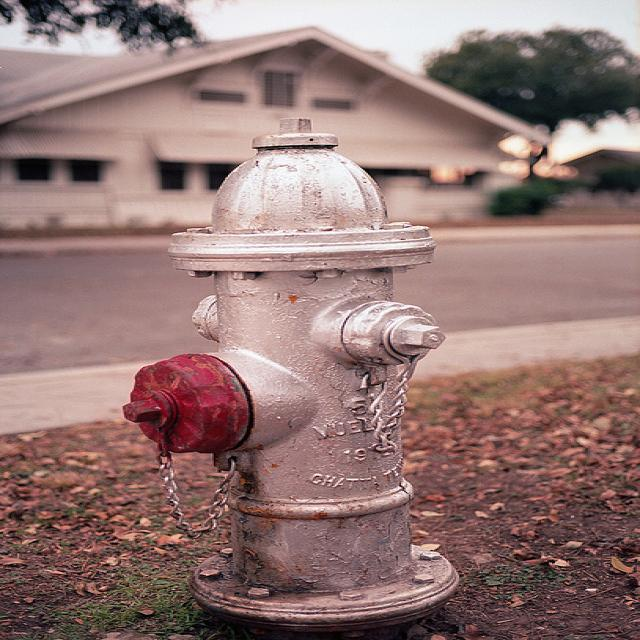fire_hydrant: (117, 116, 466, 629)
